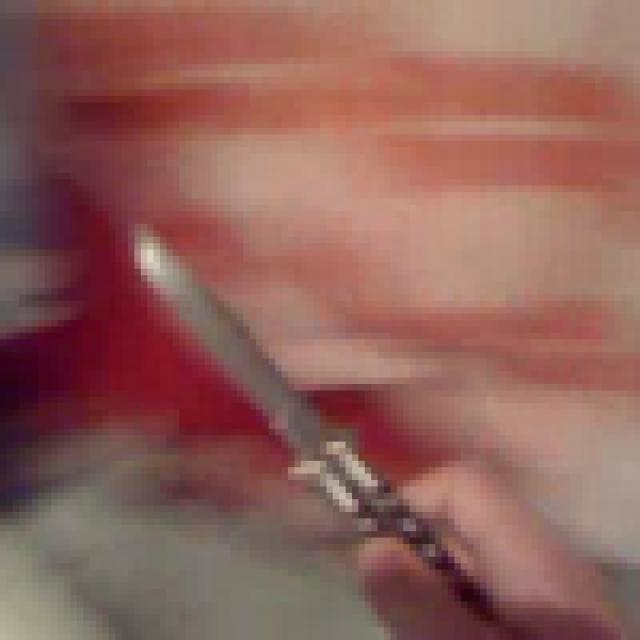Knife: (96, 147, 486, 608)
